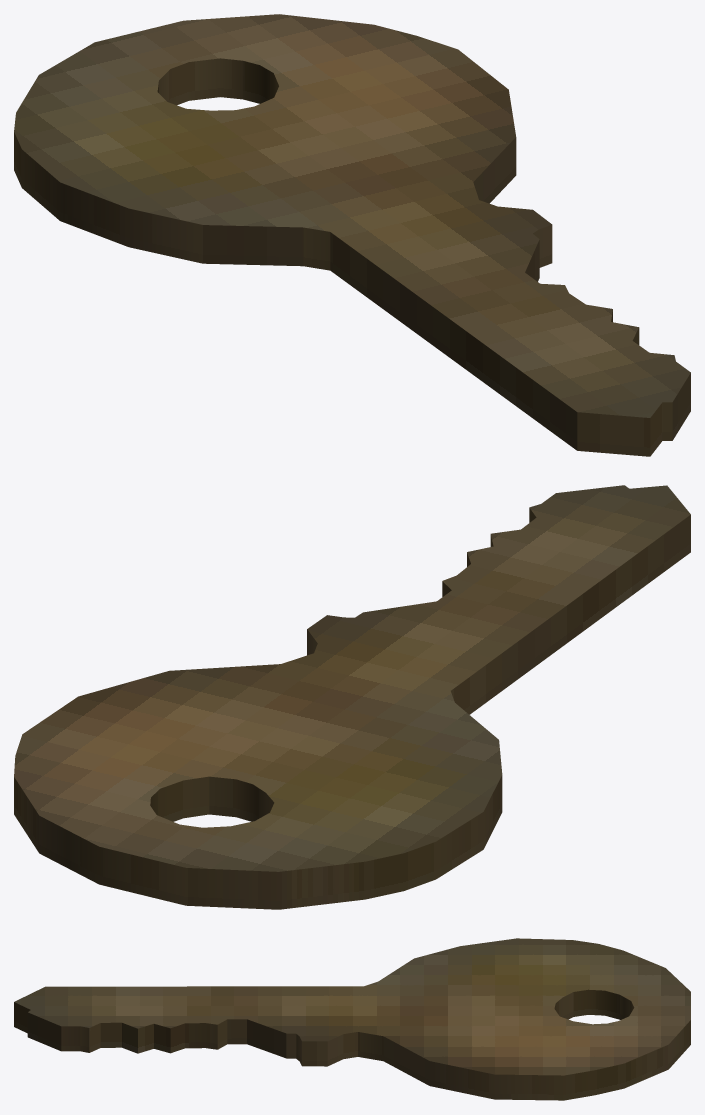
File: key_mp_1.glb
3 views of the same model, one above another, from view 1: azimuth 30°, elevation 25°; view 2: azimuth 150°, elevation 25°; view 3: azimuth 270°, elevation 25° (orthographic). The views are drawn at different scales.
Visible parts, largest first — view 1: key_mp_1; view 2: key_mp_1; view 3: key_mp_1.
Boxes of the visible parts, x1,y1,x2,y2 form: key_mp_1: (14,14,690,456); key_mp_1: (14,485,690,909); key_mp_1: (14,938,690,1100).
Size of the model in its own units: 0.0352 by 0.00301 by 0.0735.
1 material, 1 textured.
